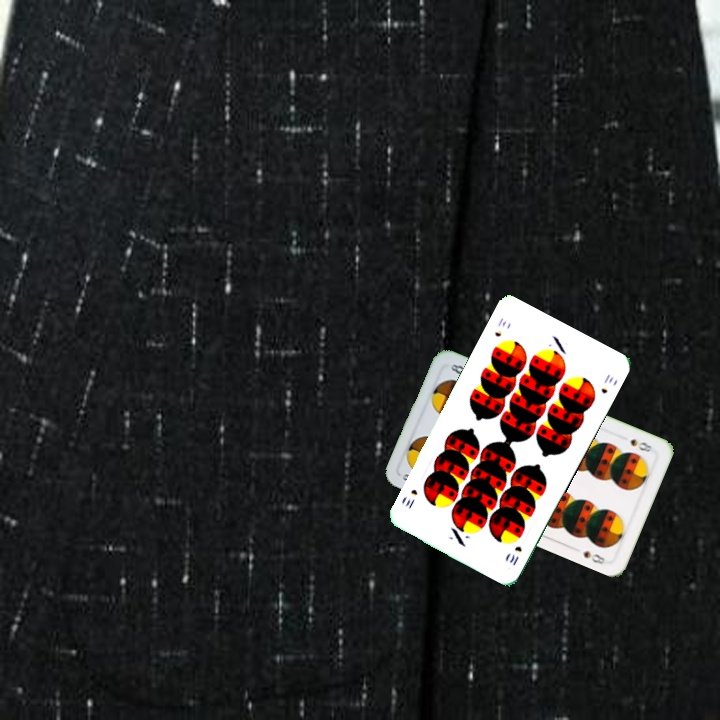S10: (505, 542, 524, 568), (491, 314, 509, 339)
S8: (626, 434, 655, 455)
